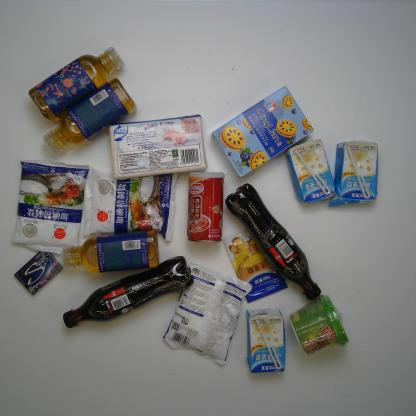Canned Food: (187, 171, 225, 242)
Dessert: (211, 85, 314, 178)
Drink: (225, 182, 322, 301), (62, 255, 195, 329), (27, 46, 125, 122), (42, 77, 138, 154), (61, 229, 161, 274)
Gum: (13, 250, 64, 297)
Instant Drink: (288, 293, 350, 357)
Milk: (327, 140, 379, 207), (284, 138, 336, 204), (245, 307, 286, 373)
Seasoner: (162, 264, 253, 365), (12, 159, 90, 255), (82, 166, 178, 242), (221, 228, 288, 303)
Tissue: (109, 113, 208, 181)
